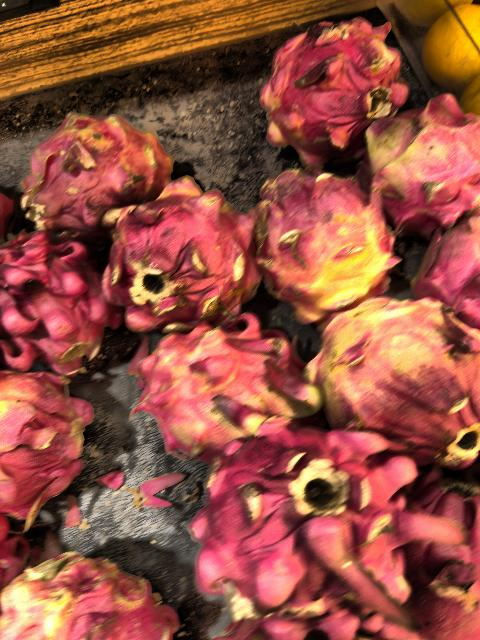buah-naga-belum-matang: (310, 291, 480, 455), (85, 186, 263, 312), (248, 173, 396, 309), (144, 323, 312, 439), (20, 115, 174, 222), (0, 550, 168, 640), (362, 103, 480, 227), (1, 366, 92, 522)
buah-naga-matang: (196, 419, 424, 626), (258, 14, 384, 144), (0, 235, 122, 367), (400, 470, 480, 640), (420, 219, 480, 309)
